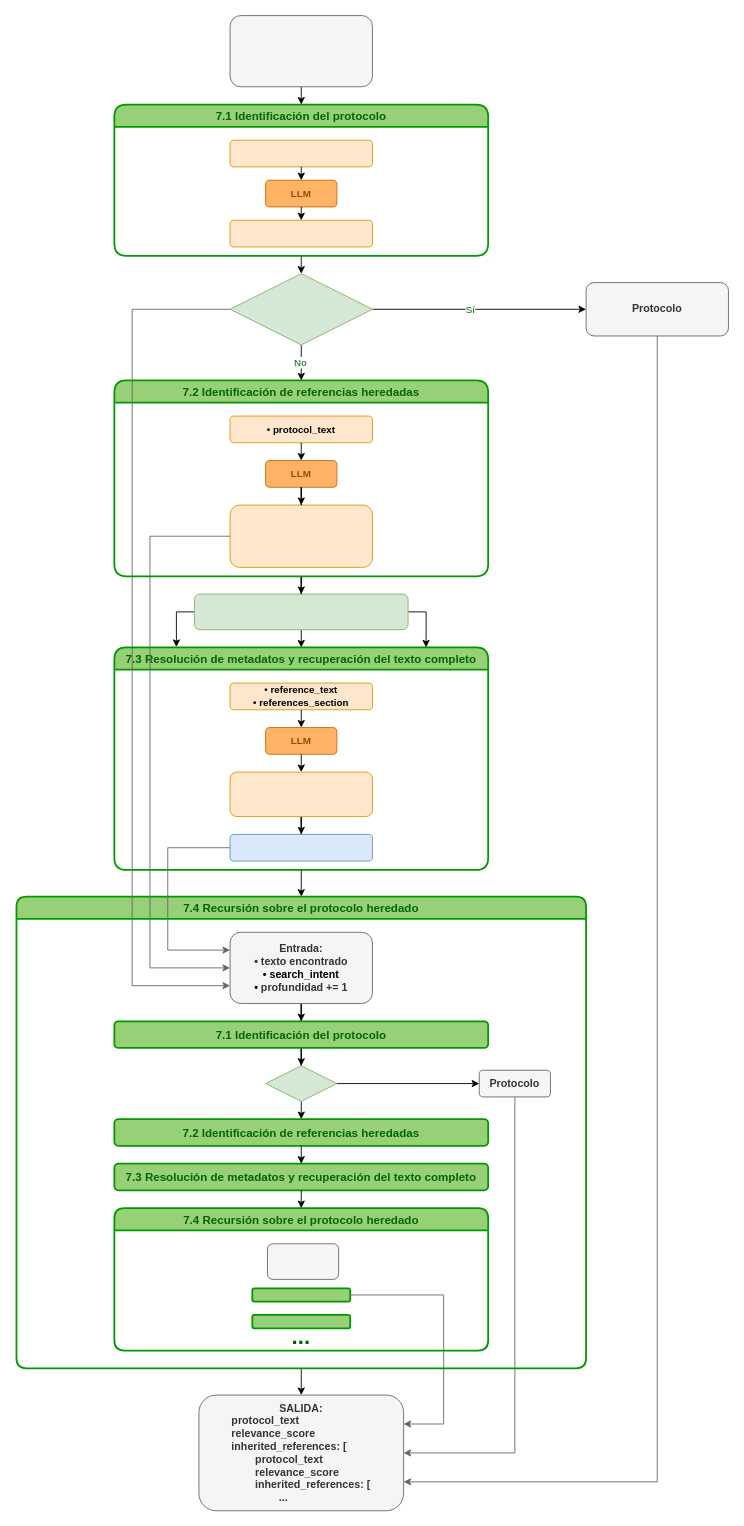
Image size: 744x1526. Some labels were removed from this diagram. The centre of each missing label's shape, as x and y in pixels:
"Búsqueda de texto completo" belongs at (x=300, y=847).
"Entrada: • texto completo • intención del usuario • profundidad = 0" belongs at (x=300, y=51).
"Para cada inherited_reference" belongs at (x=301, y=611).
"profundidad + 1 > profundidad máxima" belongs at (x=300, y=309).
"• inherited_references[ ] - context_phrase - search_intent - reference_text" belongs at (x=300, y=535).
"• protocol_text • relevance_score (0-100)" belongs at (x=300, y=233).
"• target_doi • target_title • target_year" belongs at (x=300, y=794).
"• texto completo • intención del usuario" belongs at (x=300, y=153).
